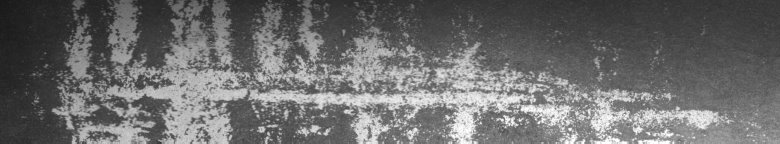kb: (30, 4, 761, 136)
